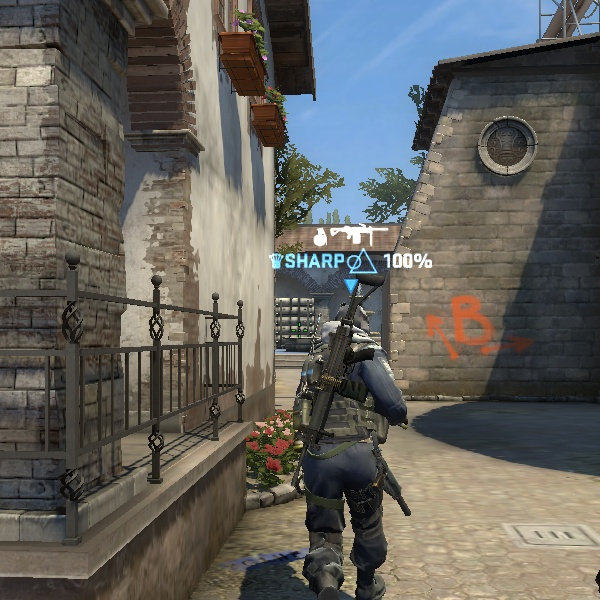ct_body: (231, 299, 445, 593)
ct_head: (318, 297, 385, 360)
